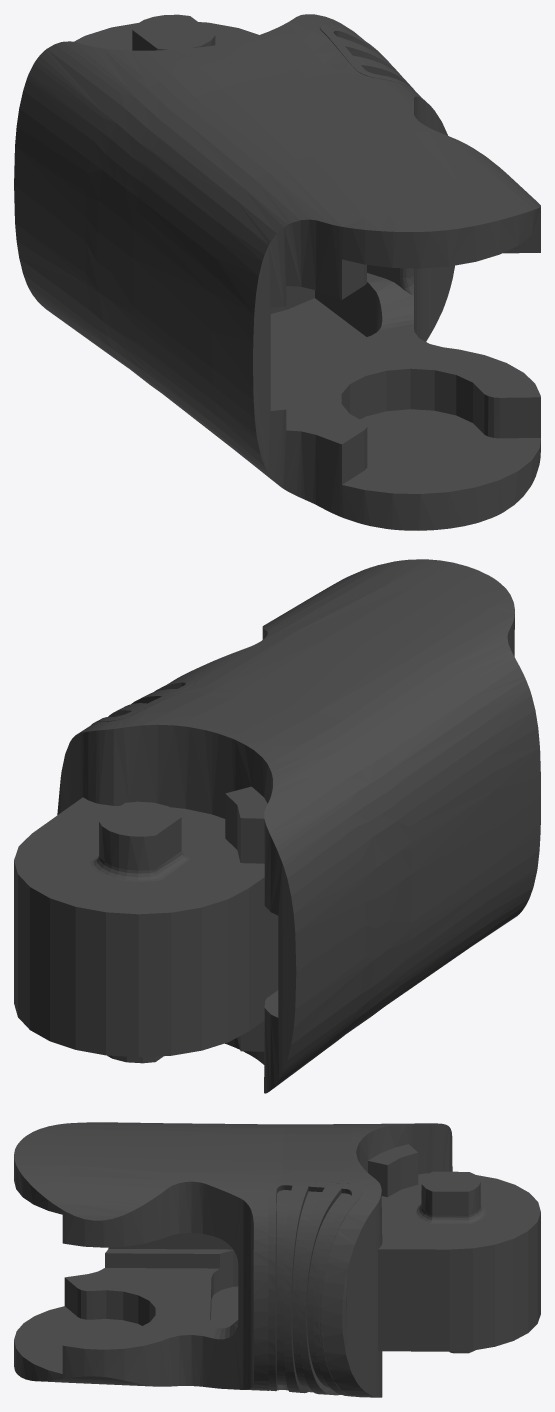
The model's file is lh_thumb_proximal_vis.obj.
3 renders of one model, top to bottom at view 1: azimuth 30°, elevation 25°; view 2: azimuth 150°, elevation 25°; view 3: azimuth 270°, elevation 25°, orthographic. The views are drawn at different scales.
Parts seen in each view (by area): view 1: lh_thumb_proximal; view 2: lh_thumb_proximal; view 3: lh_thumb_proximal.
Part boxes in pixels (left/top/right/bottom): lh_thumb_proximal: left=14, top=14, right=540, bottom=530; lh_thumb_proximal: left=14, top=559, right=540, bottom=1093; lh_thumb_proximal: left=14, top=1122, right=540, bottom=1397.
Size of the model in its own units: 0.0213 by 0.0195 by 0.0426.
Materials: 1 (1 with a texture image).
